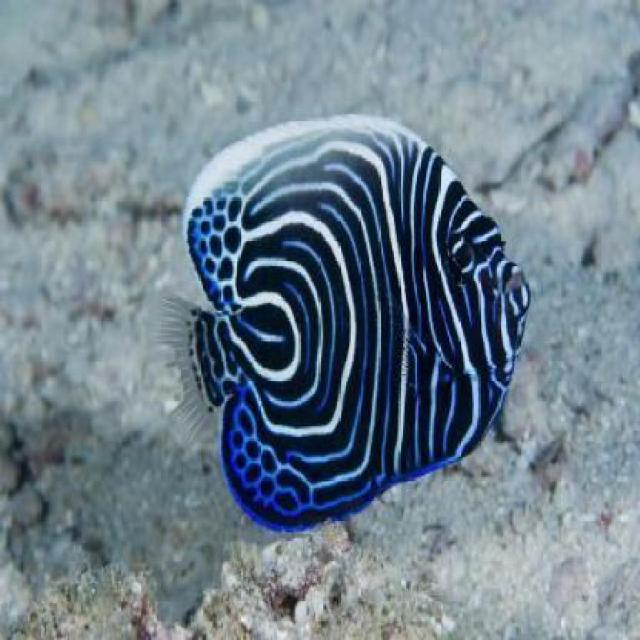AngelFish: (163, 114, 528, 538)
